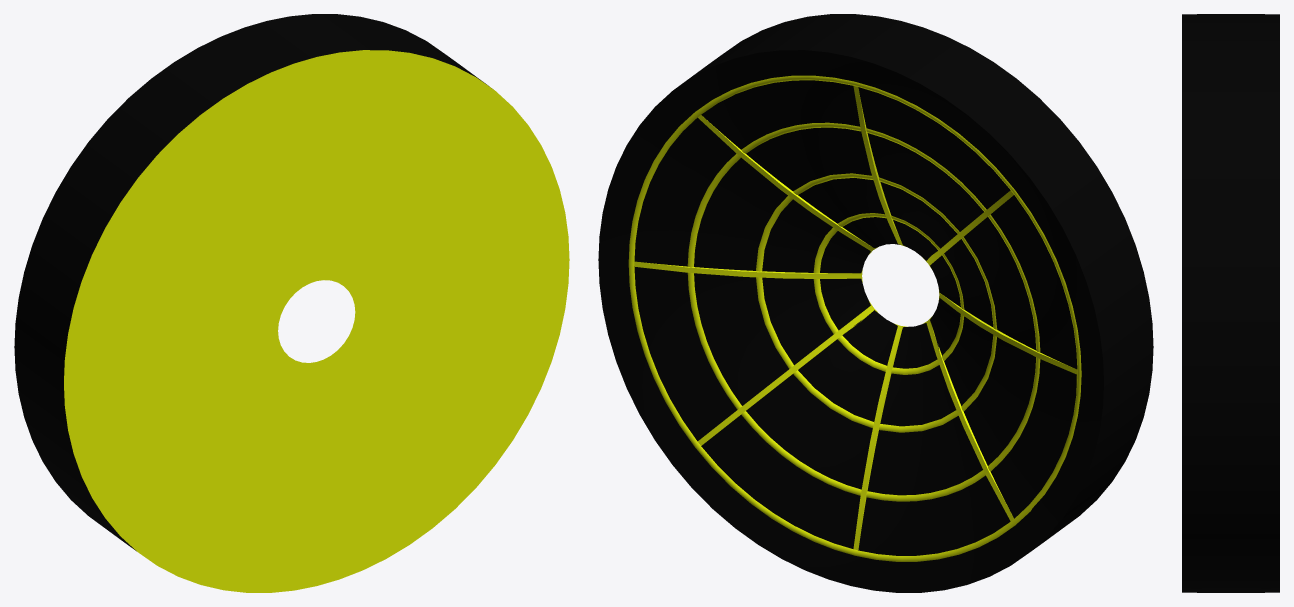
The model's file is hole.glb.
3 views of the same model, side by side, from view 1: azimuth 30°, elevation 25°; view 2: azimuth 150°, elevation 25°; view 3: azimuth 270°, elevation 25° (orthographic).
Parts seen in each view (by area): view 1: Body1; view 2: Body1; view 3: Body1.
Part boxes in pixels (bbox=[...]): Body1: bbox=[14, 14, 569, 592]; Body1: bbox=[598, 14, 1153, 592]; Body1: bbox=[1182, 14, 1279, 592].
Bounding box in the file's own units: 0.1005 × 0.1005 × 0.017.
